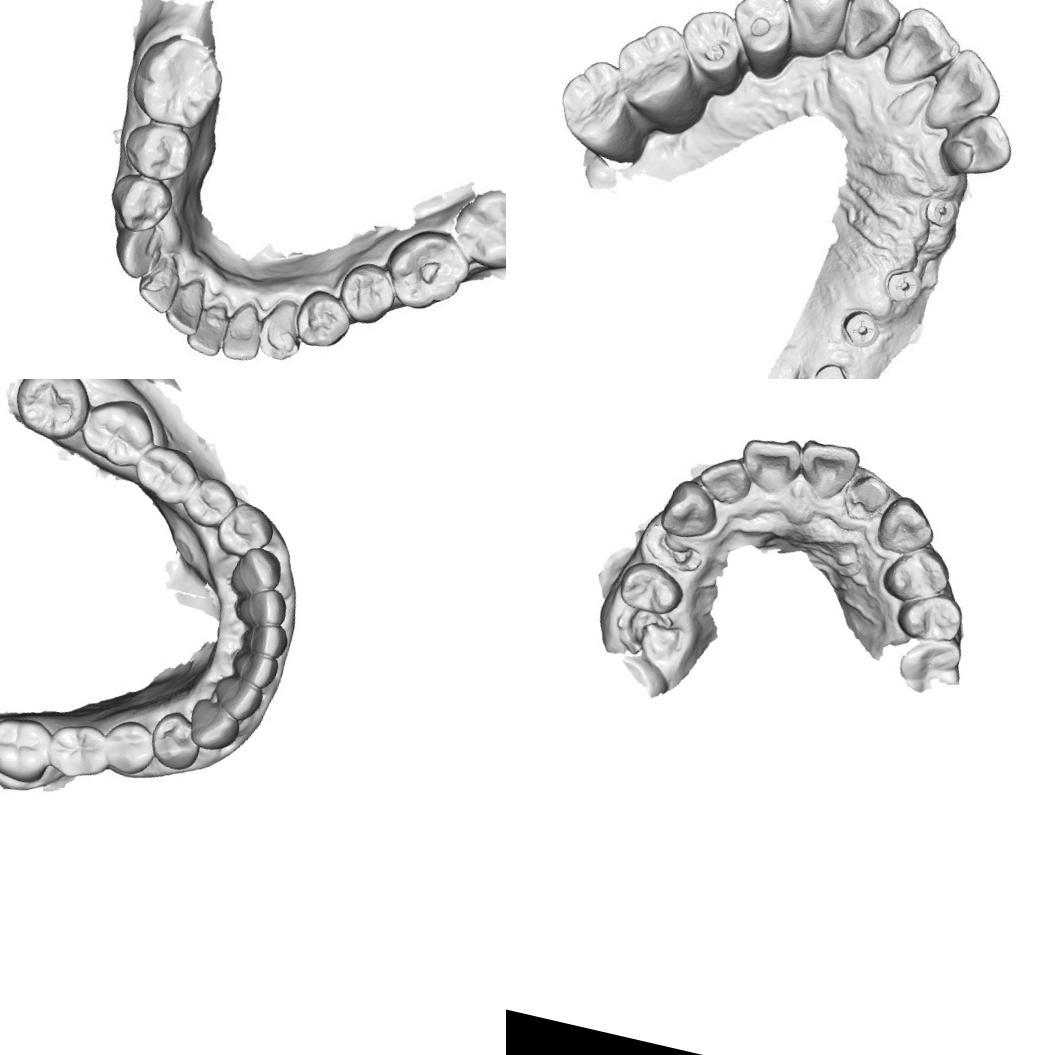canine: (774, 0, 854, 65), (655, 474, 727, 546), (872, 491, 942, 561), (254, 292, 311, 365), (225, 542, 286, 603), (182, 695, 242, 755), (110, 220, 166, 282)
crown: (842, 468, 894, 524)
implant: (806, 354, 856, 379)
implant_plus: (877, 257, 930, 313), (839, 301, 884, 352), (918, 188, 962, 235)
incisor: (928, 103, 1024, 194), (921, 43, 1005, 142), (874, 5, 960, 94), (792, 436, 864, 506), (734, 428, 805, 498), (835, 0, 901, 67), (213, 300, 268, 368), (130, 254, 184, 318), (230, 581, 294, 635), (695, 452, 756, 508), (160, 272, 211, 338), (184, 293, 232, 358), (208, 672, 265, 725), (235, 615, 292, 664), (224, 646, 281, 694)
molar: (598, 9, 723, 144), (549, 50, 663, 178), (125, 26, 231, 137), (375, 219, 476, 319), (74, 390, 161, 475), (442, 177, 506, 276), (6, 379, 97, 448), (129, 437, 205, 510), (41, 716, 114, 787), (0, 708, 57, 787)
premolar: (668, 0, 764, 103), (717, 0, 804, 84), (115, 114, 199, 189), (878, 537, 955, 611), (104, 167, 177, 239), (334, 256, 401, 331), (614, 554, 690, 620), (892, 584, 968, 648), (290, 284, 358, 354), (144, 705, 207, 776), (212, 498, 279, 562), (99, 714, 160, 782), (177, 471, 241, 535)
